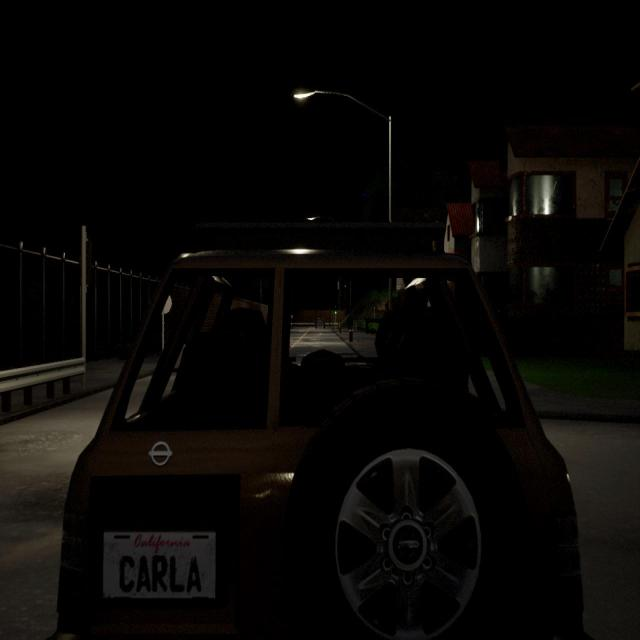Traffic_Signs: (156, 293, 173, 315)
Vehicle: (58, 249, 582, 637)
traffic_light: (78, 236, 93, 288), (334, 304, 337, 316)
